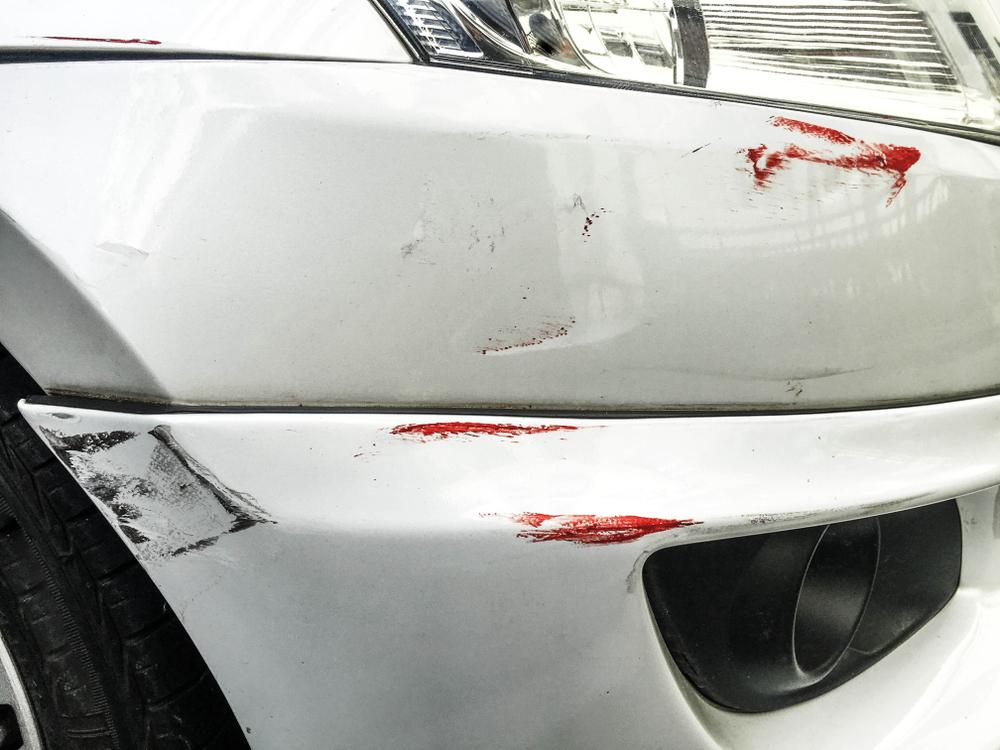scratch: (401, 106, 931, 361), (34, 422, 288, 560), (509, 484, 944, 545), (356, 414, 595, 460), (30, 29, 177, 49)
